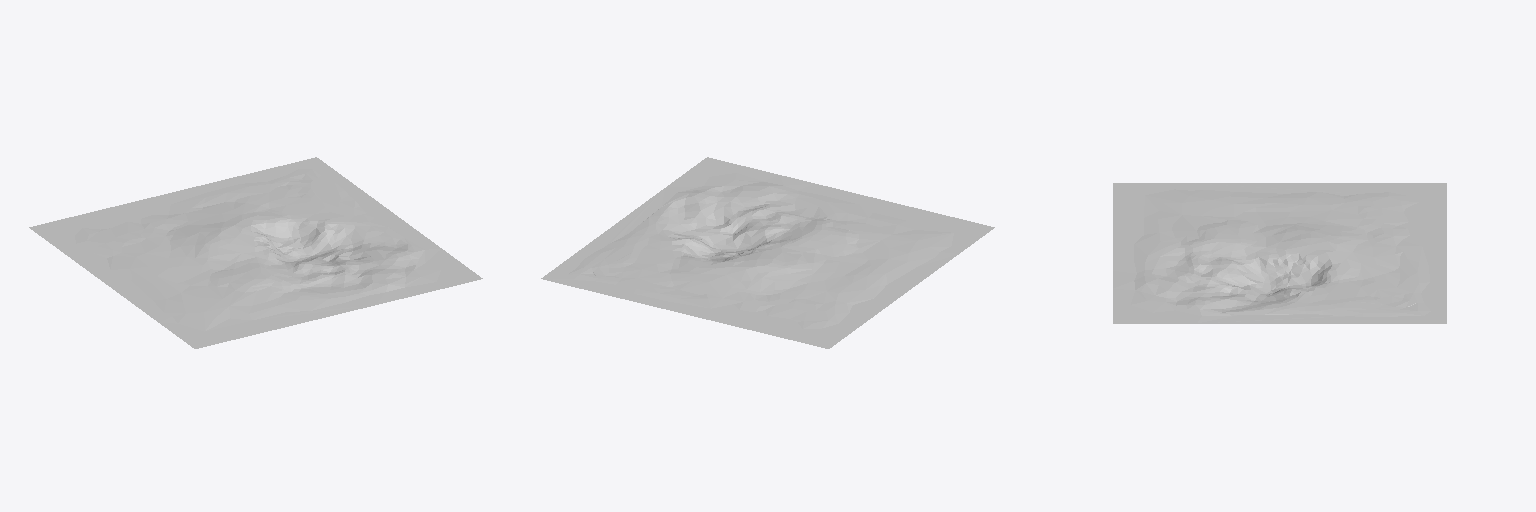
File: PlainTile0030.obj
The picture shows the model from 3 angles: view 1: azimuth 30°, elevation 25°; view 2: azimuth 150°, elevation 25°; view 3: azimuth 270°, elevation 25°; orthographic projection.
Visible parts, largest first — view 1: Tile; view 2: Tile; view 3: Tile.
Part boxes in pixels (bbox=[...]): Tile: bbox=[29, 157, 482, 348]; Tile: bbox=[541, 157, 994, 348]; Tile: bbox=[1113, 183, 1446, 323].
Size of the model in its own units: 250 by 15.55 by 250.